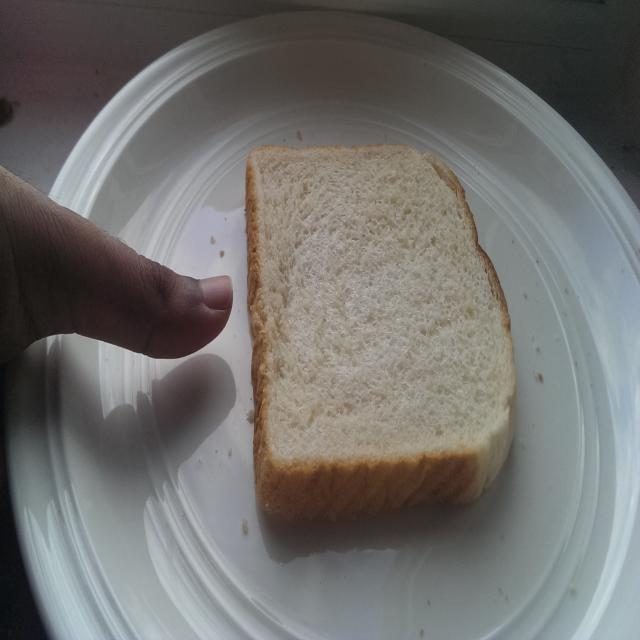Bread: (242, 133, 532, 548)
Finger: (113, 232, 241, 372)
